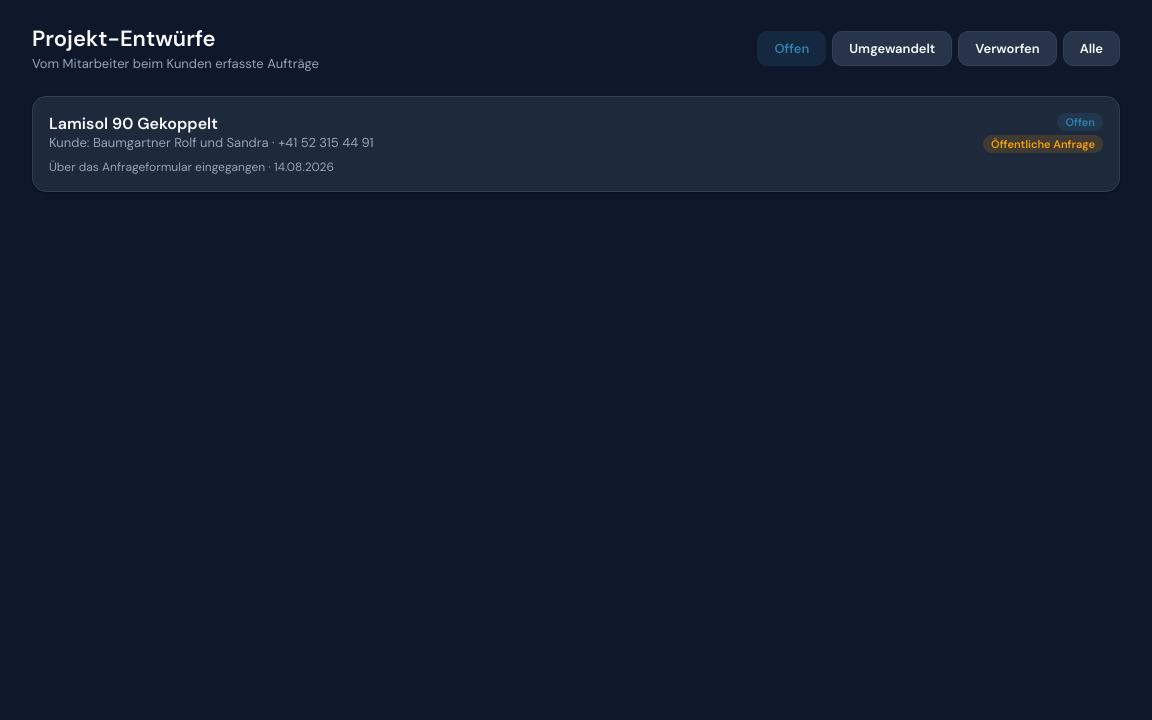
ProjectDraftsScreen — Herkunft eines Entwurfs › warnt im Detail vor ungeprüften Angaben
Click the text "Lamisol 90 Gekoppelt" at (133, 124), box top-left (49, 113), bottom-right (218, 134)
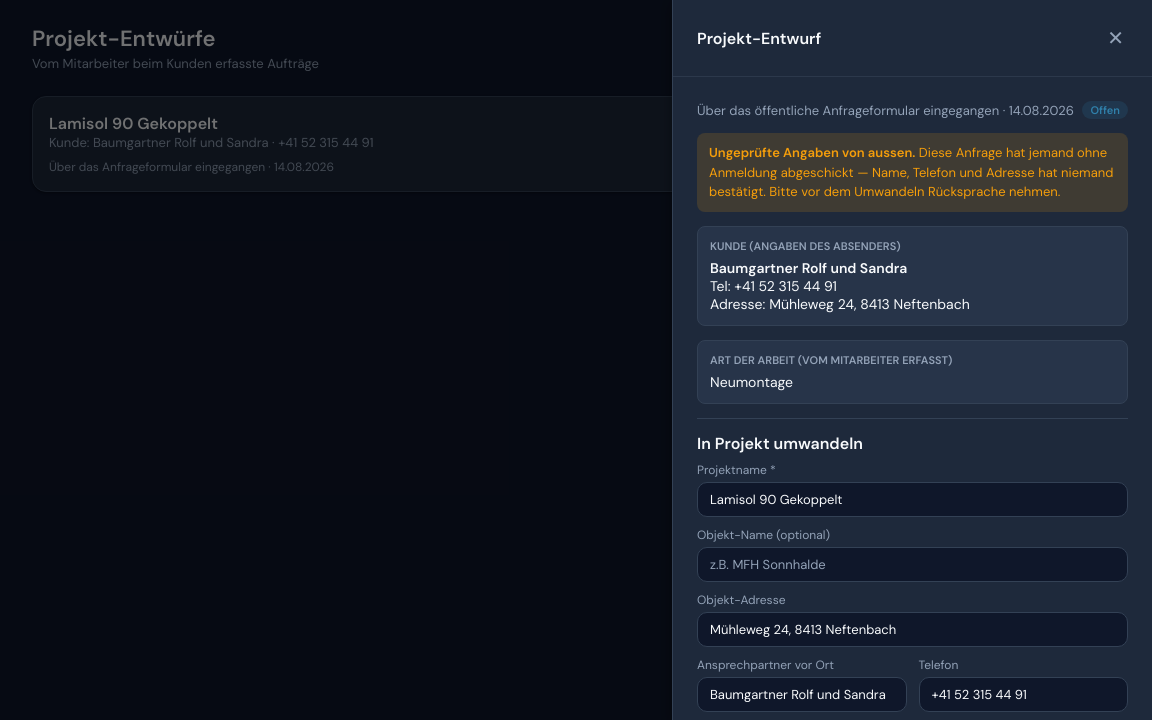
Result: the text "Ungeprüfte Angaben von aussen." is shown at top-left (709, 144), bottom-right (915, 161)
Result: the text "Kunde (Angaben des Absenders)" is shown at top-left (710, 238), bottom-right (901, 252)
